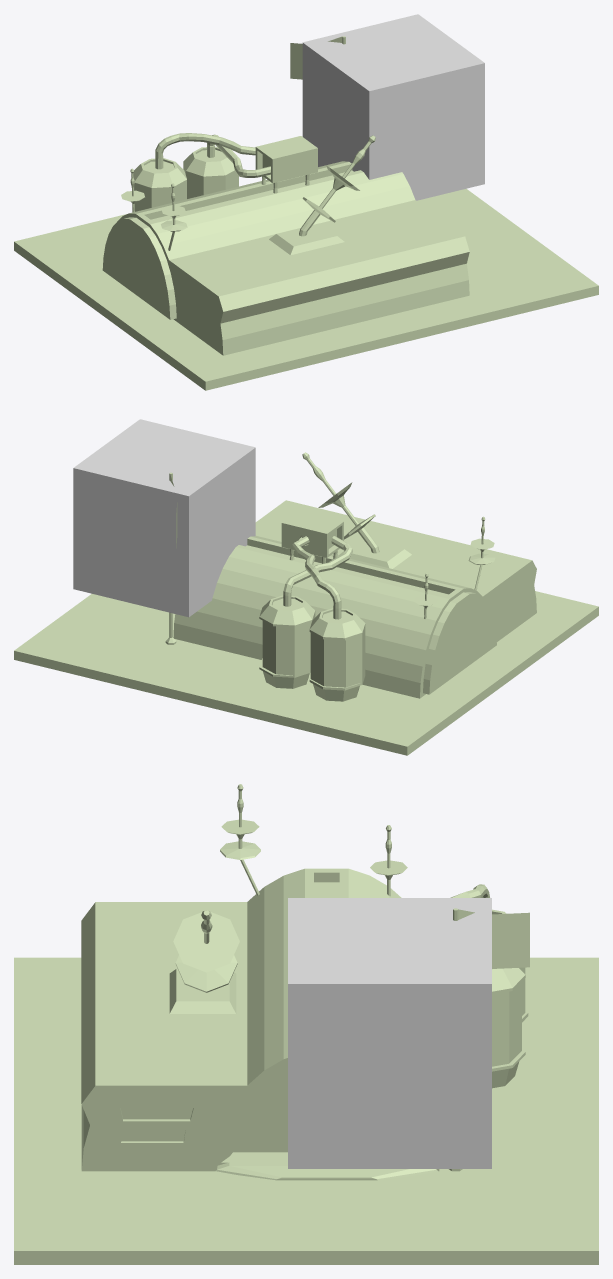
The model's file is Astra_Outpost_Block.fbx.
3 renders of one model, top to bottom at view 1: azimuth 30°, elevation 25°; view 2: azimuth 150°, elevation 25°; view 3: azimuth 270°, elevation 25°, orthographic. The views are drawn at different scales.
Parts seen in each view (by area): view 1: StarForgerOutpost, Cube; view 2: StarForgerOutpost, Cube; view 3: StarForgerOutpost, Cube.
Boxes of the visible parts, box(x1,y1,x2,y2) form: StarForgerOutpost: box(14, 36, 598, 390); Cube: box(302, 14, 484, 200); StarForgerOutpost: box(14, 452, 598, 755); Cube: box(73, 419, 255, 617); StarForgerOutpost: box(14, 784, 598, 1264); Cube: box(288, 898, 491, 1168).
Bounding box in the file's own units: 12146 × 5280 × 10241.
